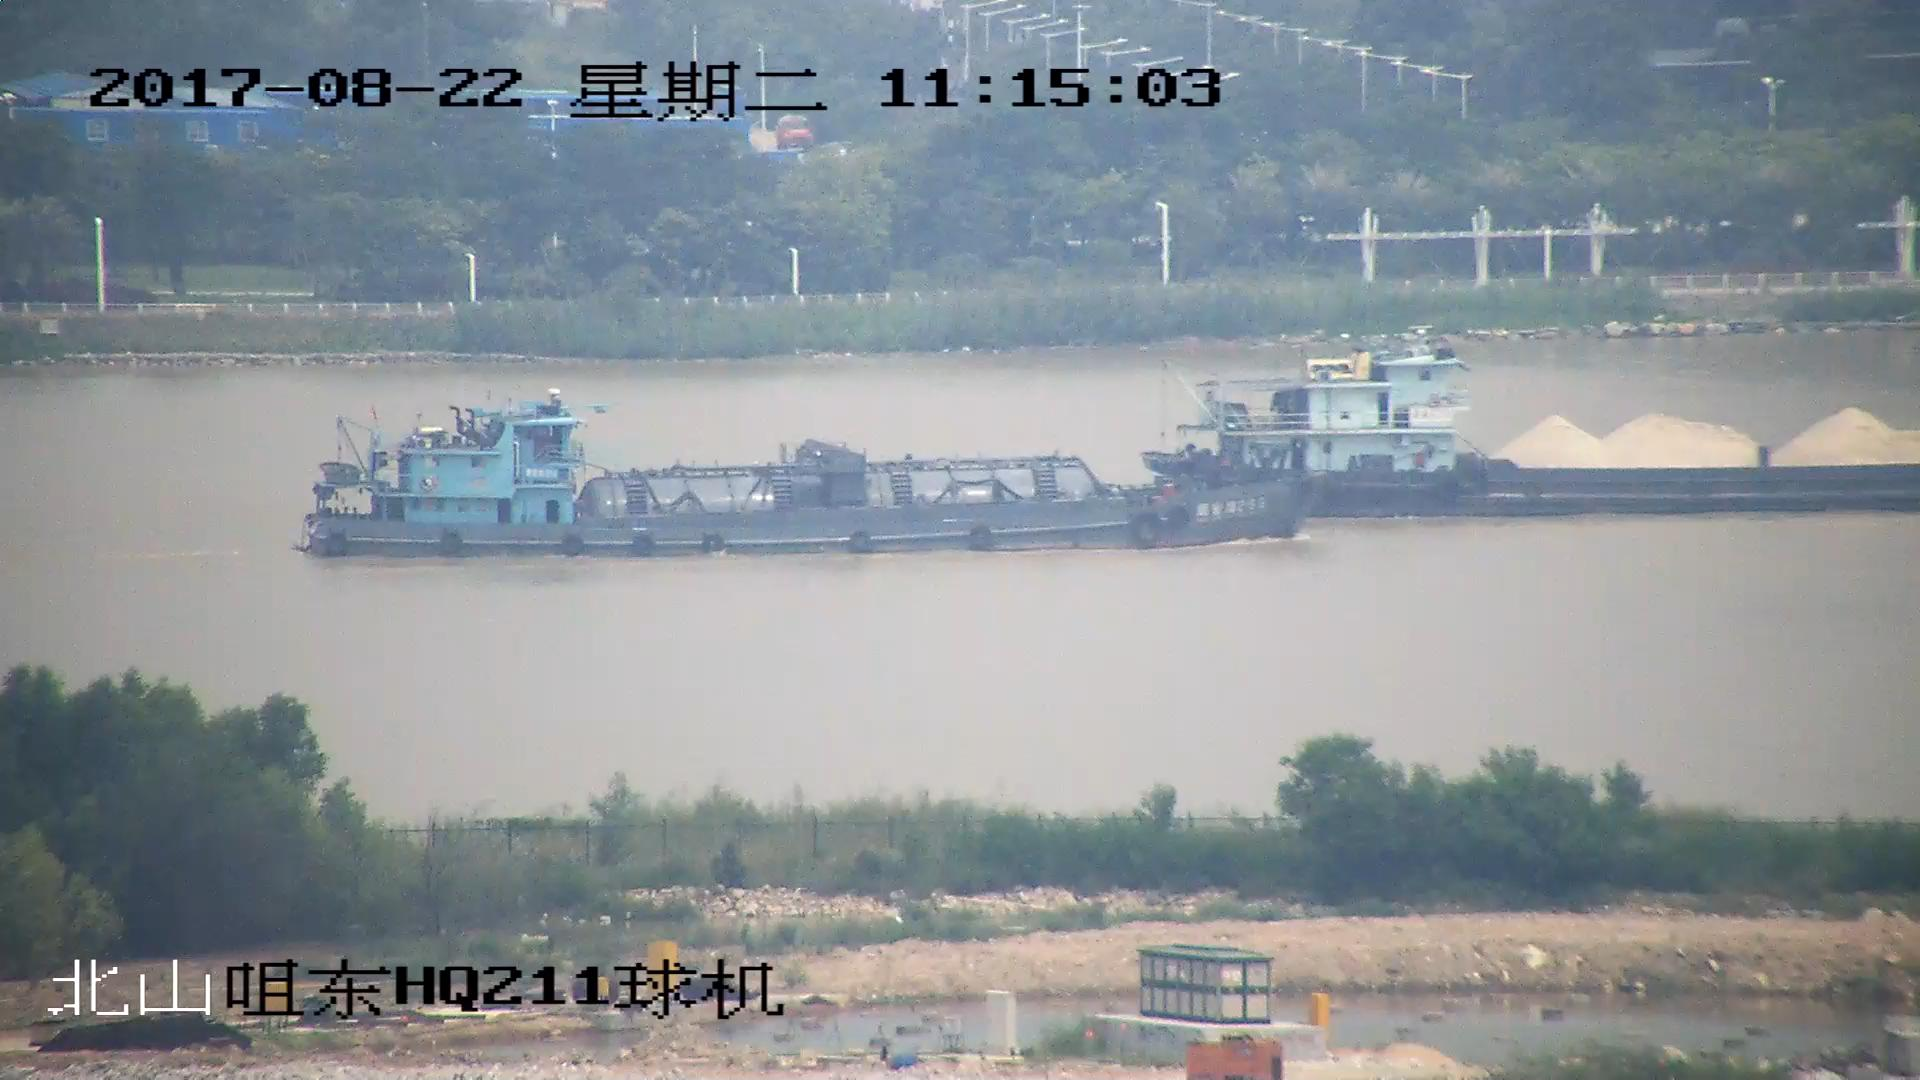bulk cargo carrier: (295, 403, 1312, 559)
ore carrier: (1161, 350, 1920, 509)
